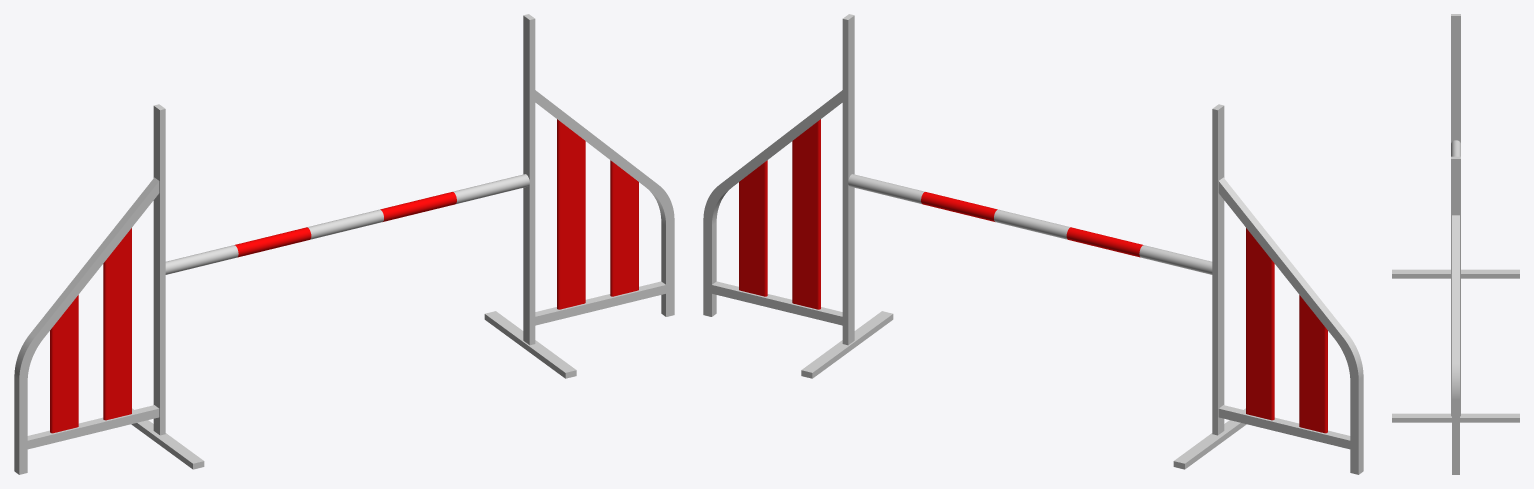
File: jump_single.fbx
3 renders of one model, left to right at view 1: azimuth 30°, elevation 25°; view 2: azimuth 150°, elevation 25°; view 3: azimuth 270°, elevation 25°, orthographic. The views are drawn at different scales.
Parts seen in each view (by area): view 1: Part 1.004, Part 1.006, Part 1, Part 1.005, Part 1.001, Part 1.002, Part 1.003; view 2: Part 1.004, Part 1.006, Part 1, Part 1.005, Part 1.001, Part 1.002, Part 1.003; view 3: Part 1.006, Part 1.004, Part 1.003.
Part boxes in pixels (x1,y1,x2,y2): Part 1.004: (14, 104, 204, 474); Part 1.006: (484, 14, 674, 378); Part 1: (234, 227, 311, 257); Part 1.005: (307, 209, 383, 239); Part 1.001: (380, 192, 456, 221); Part 1.002: (453, 174, 529, 203); Part 1.003: (165, 245, 238, 274); Part 1.004: (1173, 104, 1363, 474); Part 1.006: (703, 14, 893, 378); Part 1: (1066, 227, 1143, 257); Part 1.005: (994, 209, 1070, 239); Part 1.001: (921, 192, 997, 221); Part 1.002: (848, 174, 924, 203); Part 1.003: (1139, 245, 1212, 274); Part 1.006: (1392, 156, 1519, 474); Part 1.004: (1392, 14, 1519, 278); Part 1.003: (1451, 140, 1460, 156).
Bounding box in the file's own units: 234 × 113 × 50.
